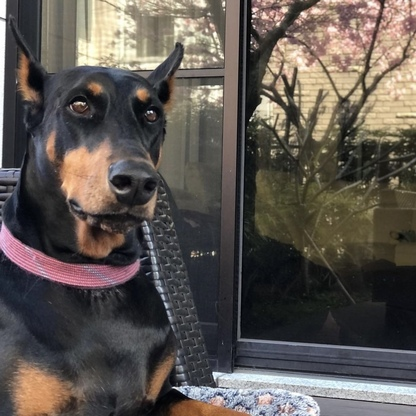doberman: (5, 17, 186, 416)
